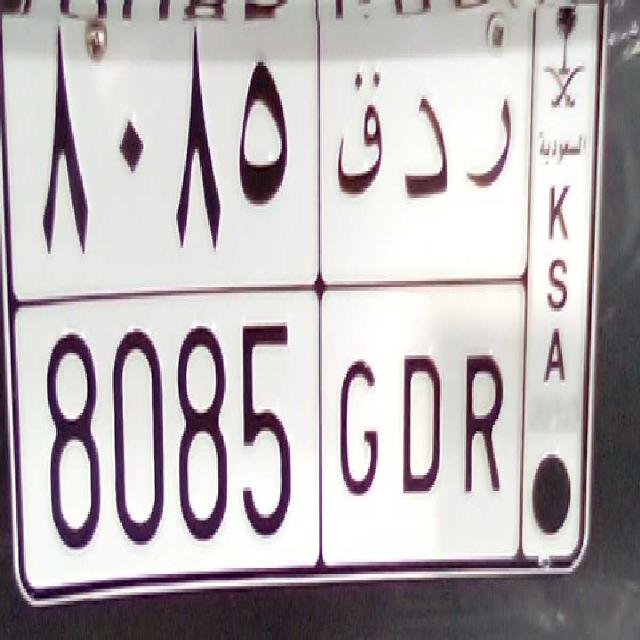license_plate: (20, 289, 522, 568)
